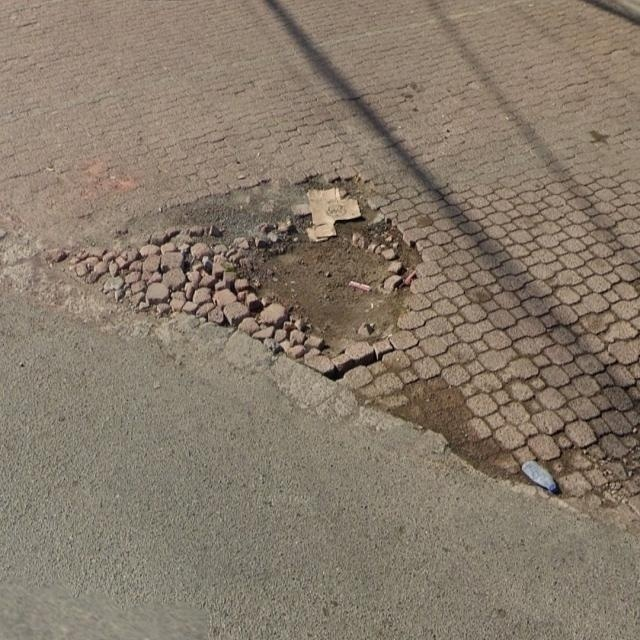pothole: (65, 152, 445, 420)
